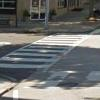Crosswalk: (26, 28, 79, 86)
